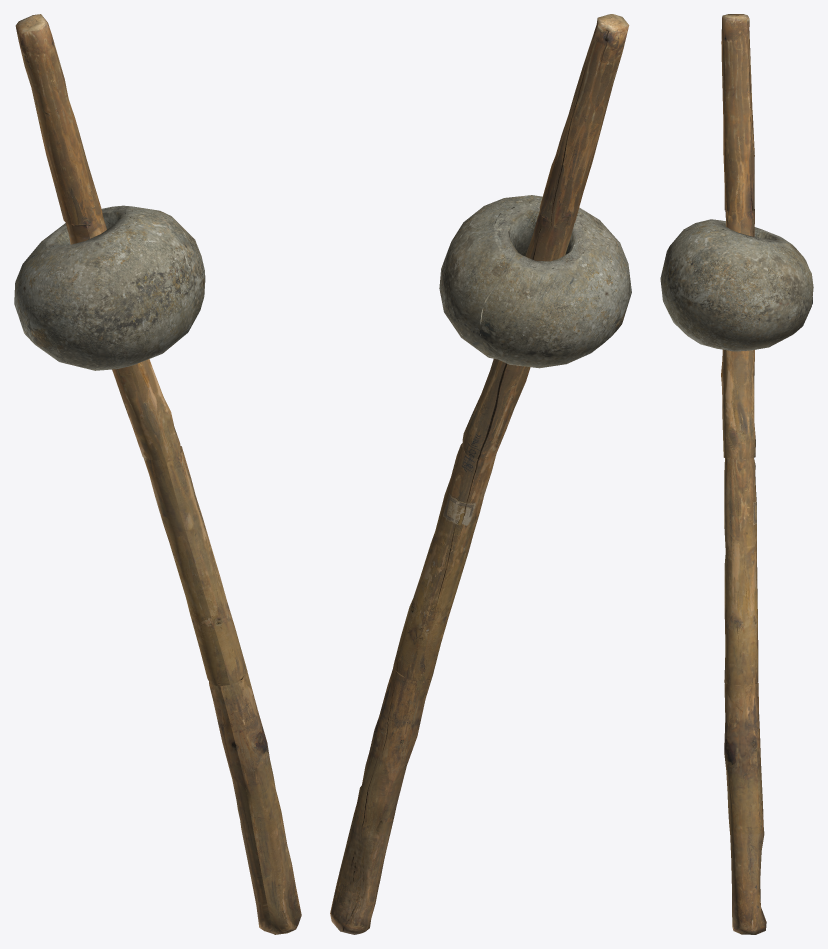
Rendered from digging_stick.glb.
3 renders of one model, left to right at view 1: azimuth 30°, elevation 25°; view 2: azimuth 150°, elevation 25°; view 3: azimuth 270°, elevation 25°, orthographic. The views are drawn at different scales.
Parts seen in each view (by area): view 1: Object_2, Object_6, Object_3, Object_5, Object_7, Object_4; view 2: Object_2, Object_6, Object_3, Object_5, Object_7, Object_4; view 3: Object_2, Object_6, Object_3, Object_5, Object_7, Object_4.
Boxes of the visible parts, x1,y1,x2,y2 form: Object_2: [14, 205, 205, 370]; Object_6: [209, 672, 301, 934]; Object_3: [143, 446, 247, 686]; Object_5: [15, 14, 102, 224]; Object_7: [65, 214, 180, 462]; Object_4: [45, 206, 134, 251]; Object_2: [439, 195, 631, 368]; Object_6: [330, 669, 432, 934]; Object_3: [393, 443, 495, 681]; Object_5: [539, 14, 629, 225]; Object_7: [462, 209, 574, 461]; Object_4: [494, 201, 587, 268]; Object_2: [660, 219, 813, 351]; Object_6: [724, 682, 766, 934]; Object_3: [724, 457, 758, 685]; Object_5: [721, 14, 754, 215]; Object_7: [721, 208, 755, 459]; Object_4: [706, 220, 786, 350].
Bounding box in the file's own units: 1.3 × 4.21 × 0.7154.
Materials: 1 (1 with a texture image).
